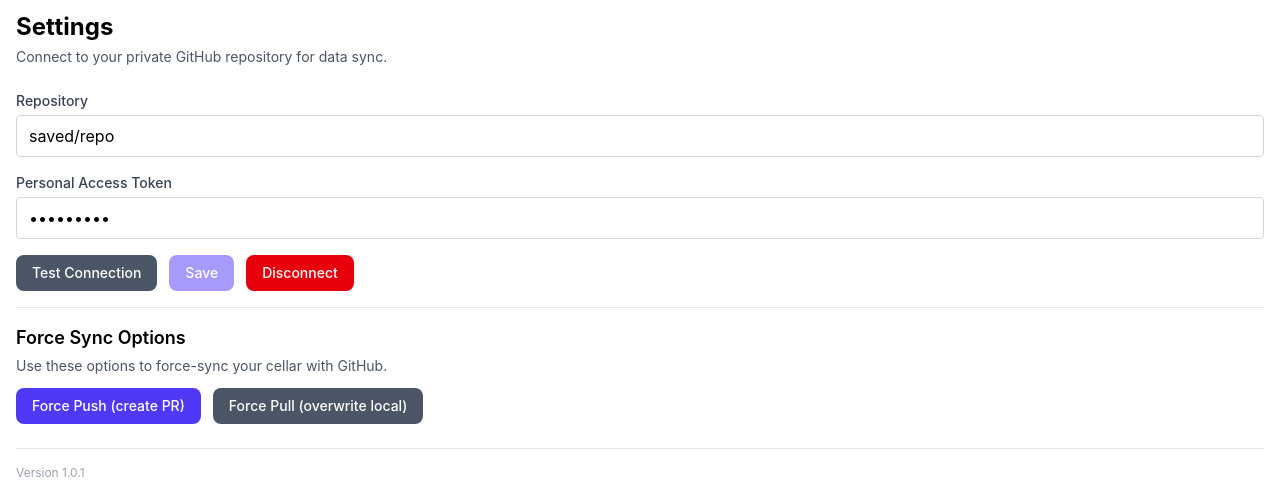
Test case: Settings › disconnect › should clear settings and reset form when Disconnect is clicked
The width and height of the screenshot is (1280, 494).
Click the button with test id "disconnect". click: [300, 273]
box: x1=246 y1=255 x2=354 y2=291
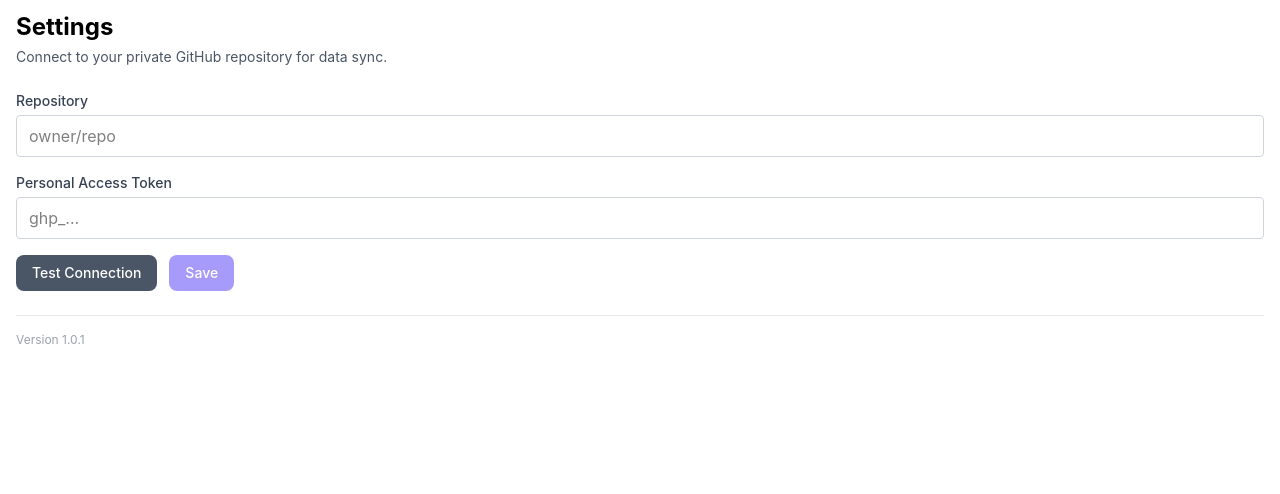
Expected: the field with test id "input-repo" is empty, x1=16 y1=115 x2=1264 y2=157
Expected: the password field with test id "input-pat" is empty, x1=16 y1=197 x2=1264 y2=239
Expected: the button with test id "disconnect" is gone
